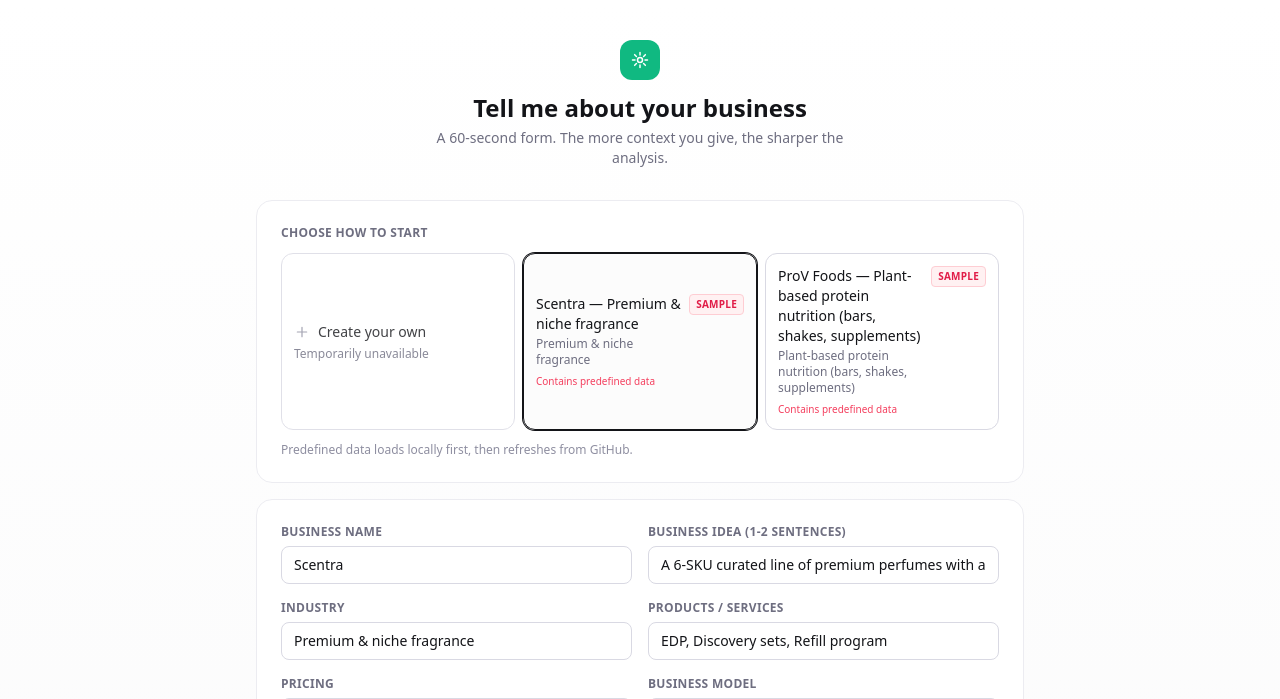
it: dynamic analysis unavailable flow › warns from Create your own and Cancel leaves the questionnaire unchanged
This screenshot has width=1280, height=699.
Click the button with aria-label "Create your own (unavailable)" at (398, 342), box [281, 253, 515, 430]
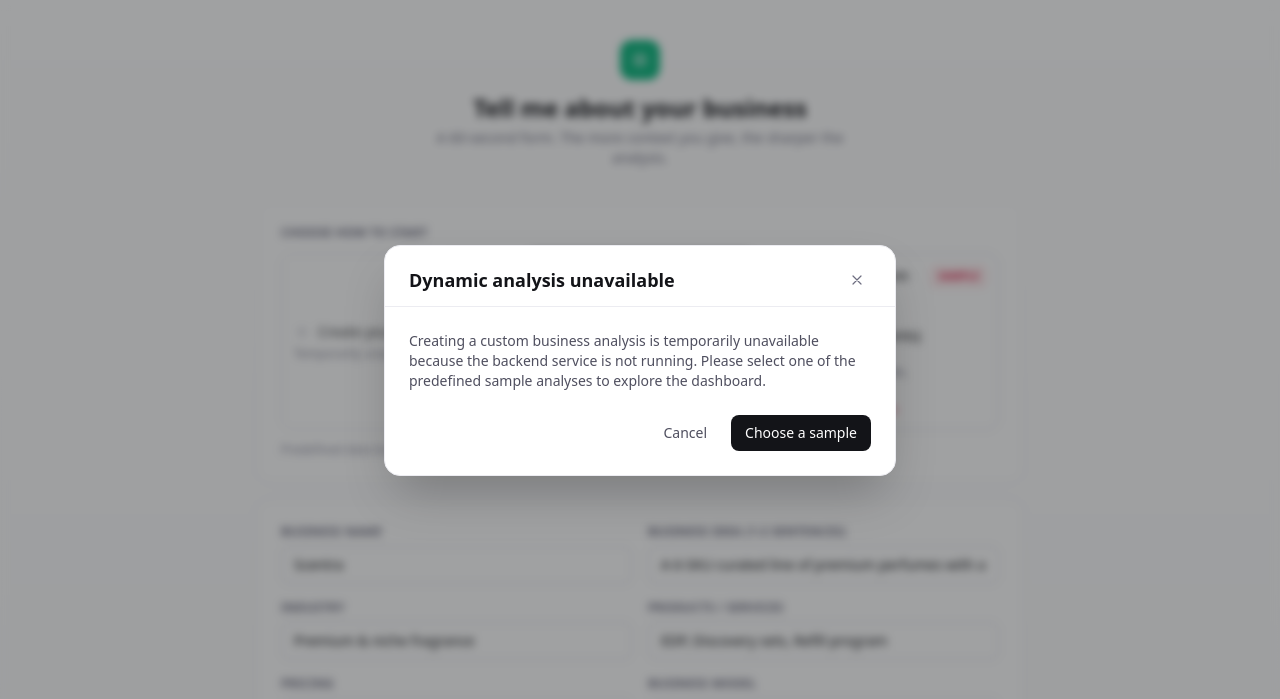
Expected: the dialog is shown, [384, 244, 896, 476]
Expected: the heading "Dynamic analysis unavailable" is shown, [409, 266, 675, 294]
Expected: the text "Creating a custom business analysis is temporarily unavailable because the backend service is not running. Please select" is shown, [409, 330, 856, 390]
Click the button "Cancel" at (685, 432), box [648, 414, 723, 450]
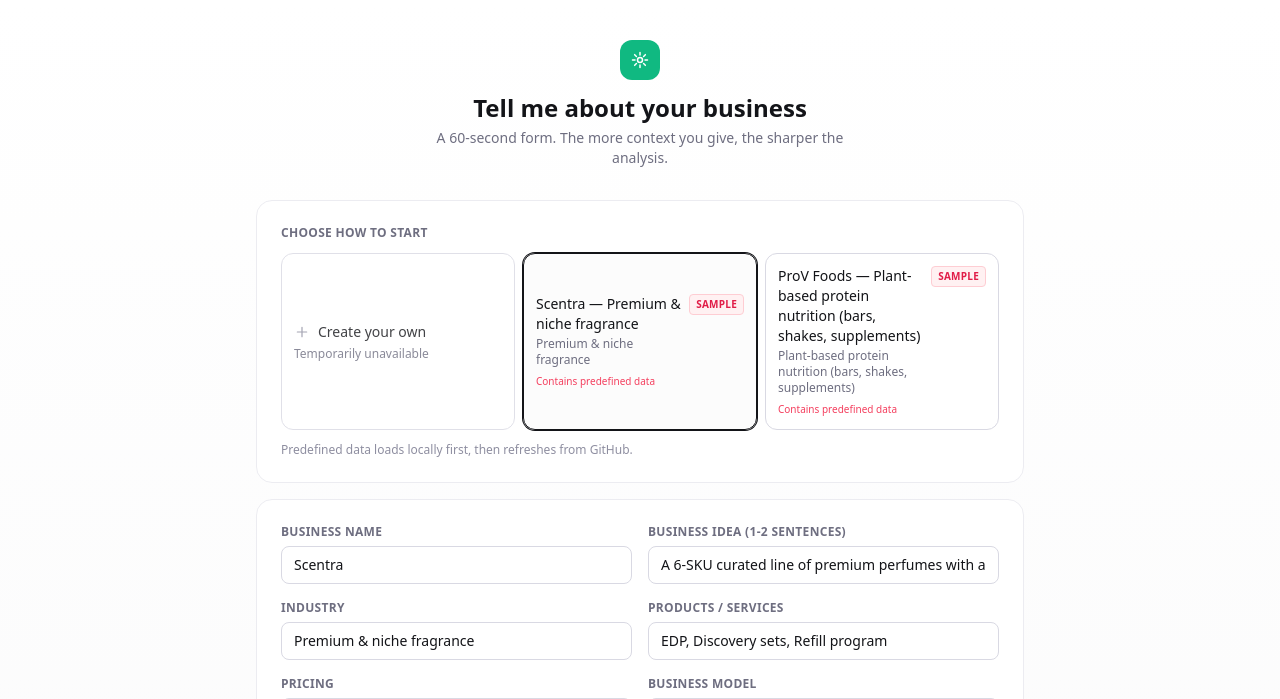
Expected: the button "Scentra — Premium & niche fragrance" is shown, [523, 253, 757, 430]
Expected: the dialog is gone
